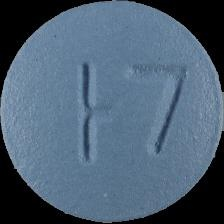31722-525: (0, 0, 224, 224)
